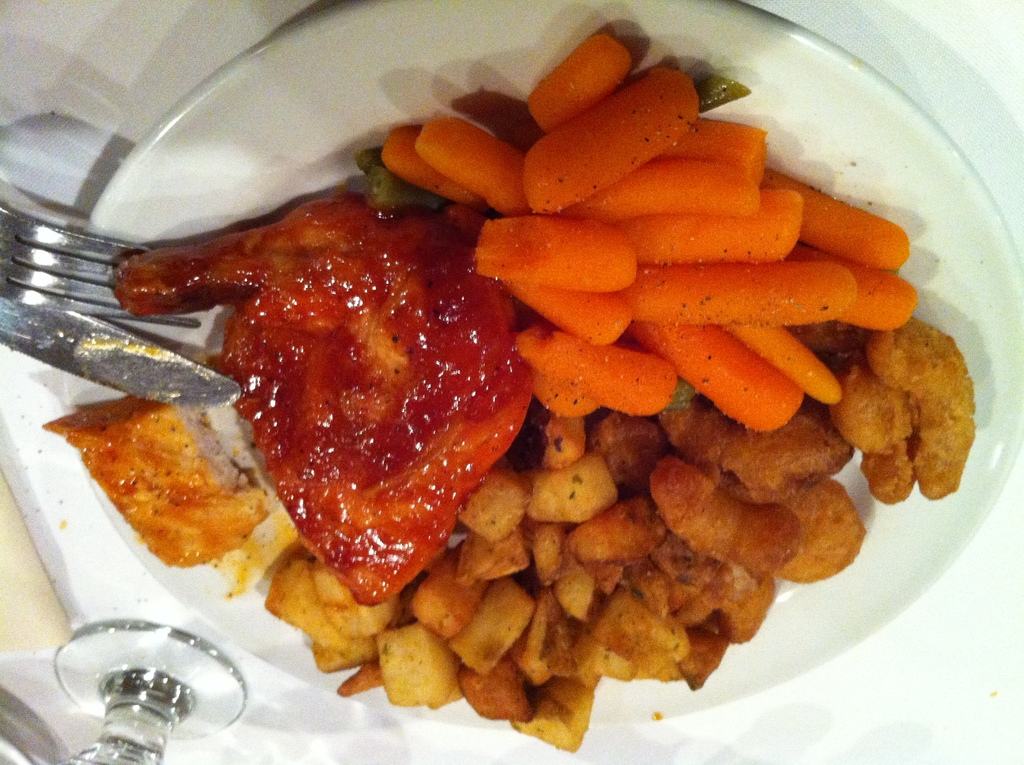Carrot: (380, 33, 918, 431)
